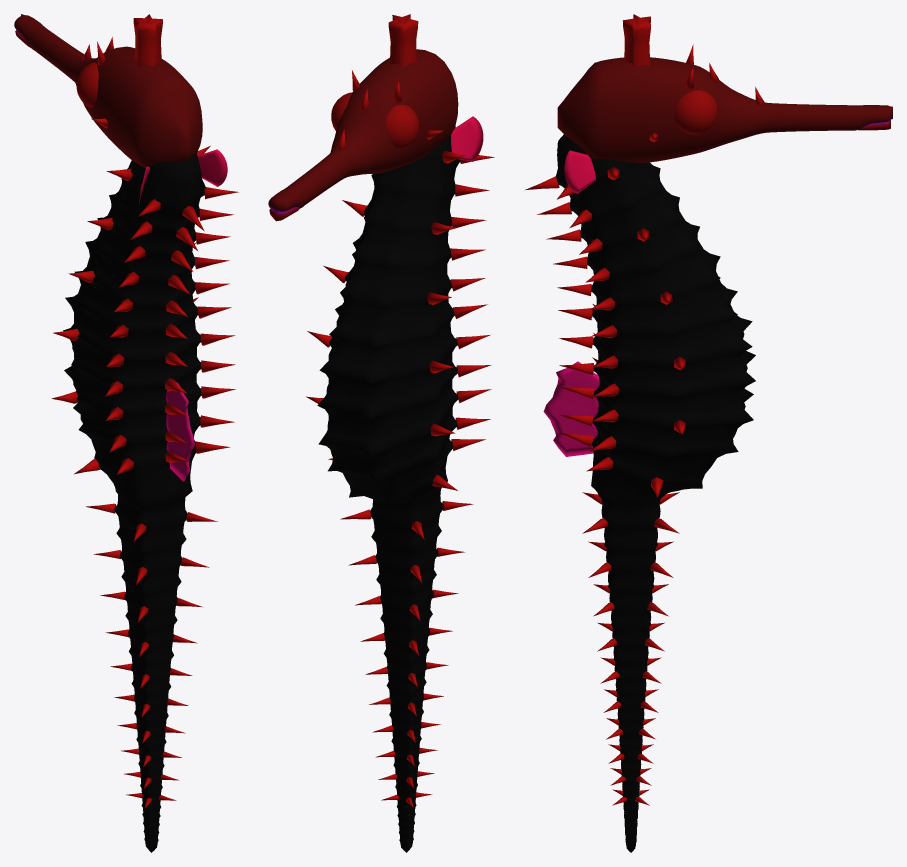
Rendered from seahorse_spiny.glb.
The picture shows the model from 3 angles, left to right: view 1: azimuth 30°, elevation 25°; view 2: azimuth 150°, elevation 25°; view 3: azimuth 270°, elevation 25°; orthographic projection.
Visible parts, largest first — view 1: seahorse_spiny; view 2: seahorse_spiny; view 3: seahorse_spiny.
Boxes of the visible parts, left/top/right/bottom form: seahorse_spiny: left=14, top=14, right=238, bottom=852; seahorse_spiny: left=268, top=14, right=494, bottom=852; seahorse_spiny: left=524, top=14, right=892, bottom=852.
Bounding box in the file's own units: 0.0283 × 0.15 × 0.0602.
